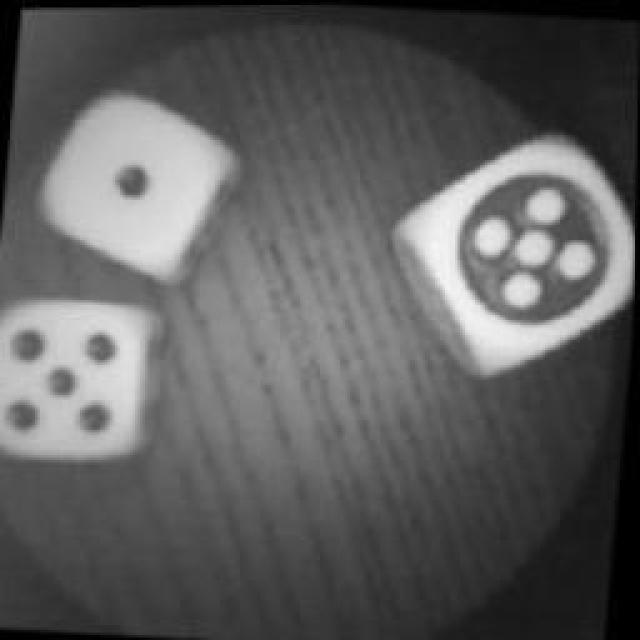dice_1: (29, 72, 249, 282)
dice_5: (400, 119, 638, 379), (1, 280, 181, 480)
